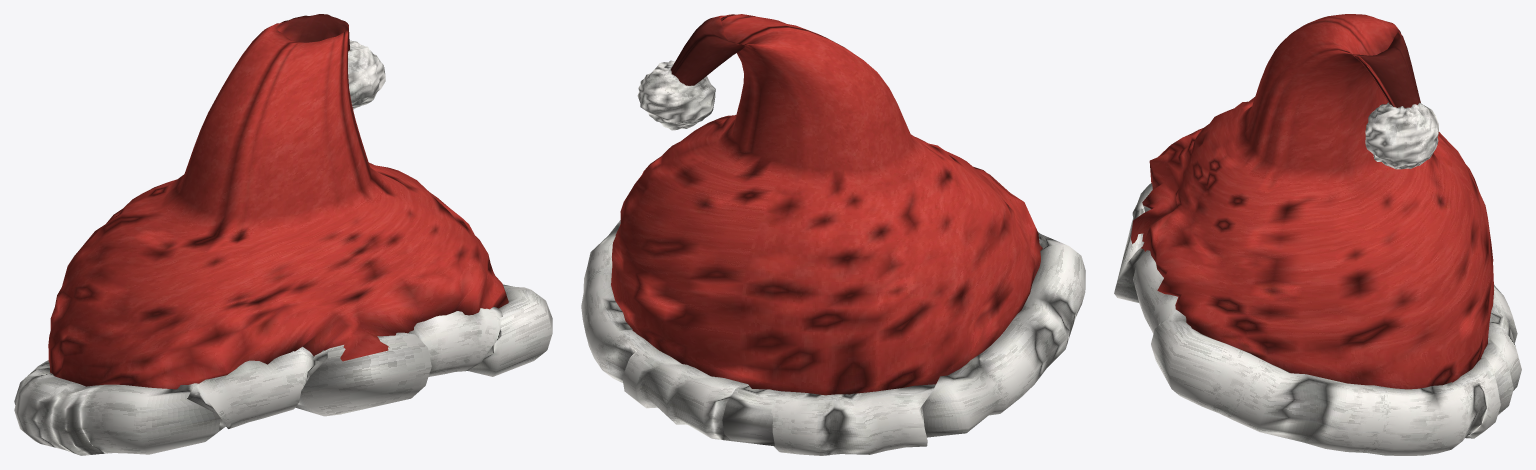
Rendered from santa_hat.glb.
The picture shows the model from 3 angles, left to right: view 1: azimuth 30°, elevation 25°; view 2: azimuth 150°, elevation 25°; view 3: azimuth 270°, elevation 25°; orthographic projection. The views are drawn at different scales.
Parts seen in each view (by area): view 1: santa_hat_cap, santa_hat_cuff, santa_hat_pom; view 2: santa_hat_cap, santa_hat_cuff, santa_hat_pom; view 3: santa_hat_cap, santa_hat_cuff, santa_hat_pom.
Part boxes in pixels (x1,y1,x2,y2): santa_hat_cap: [48, 14, 508, 389]; santa_hat_cuff: [14, 284, 552, 455]; santa_hat_pom: [348, 40, 385, 109]; santa_hat_cap: [611, 14, 1042, 395]; santa_hat_cuff: [581, 220, 1085, 455]; santa_hat_pom: [637, 60, 715, 130]; santa_hat_cap: [1131, 14, 1494, 389]; santa_hat_cuff: [1114, 183, 1521, 455]; santa_hat_pom: [1365, 102, 1438, 169].
Bounding box in the file's own units: 35.36 × 26.93 × 26.24.
Materials: 1 (1 with a texture image).
